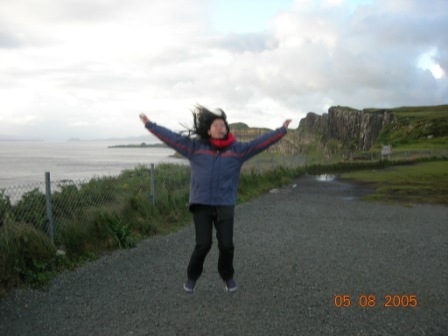person: (138, 107, 293, 297)
